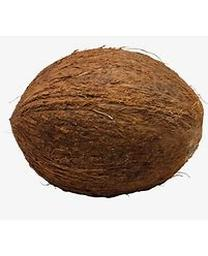coconut: (11, 47, 203, 197)
